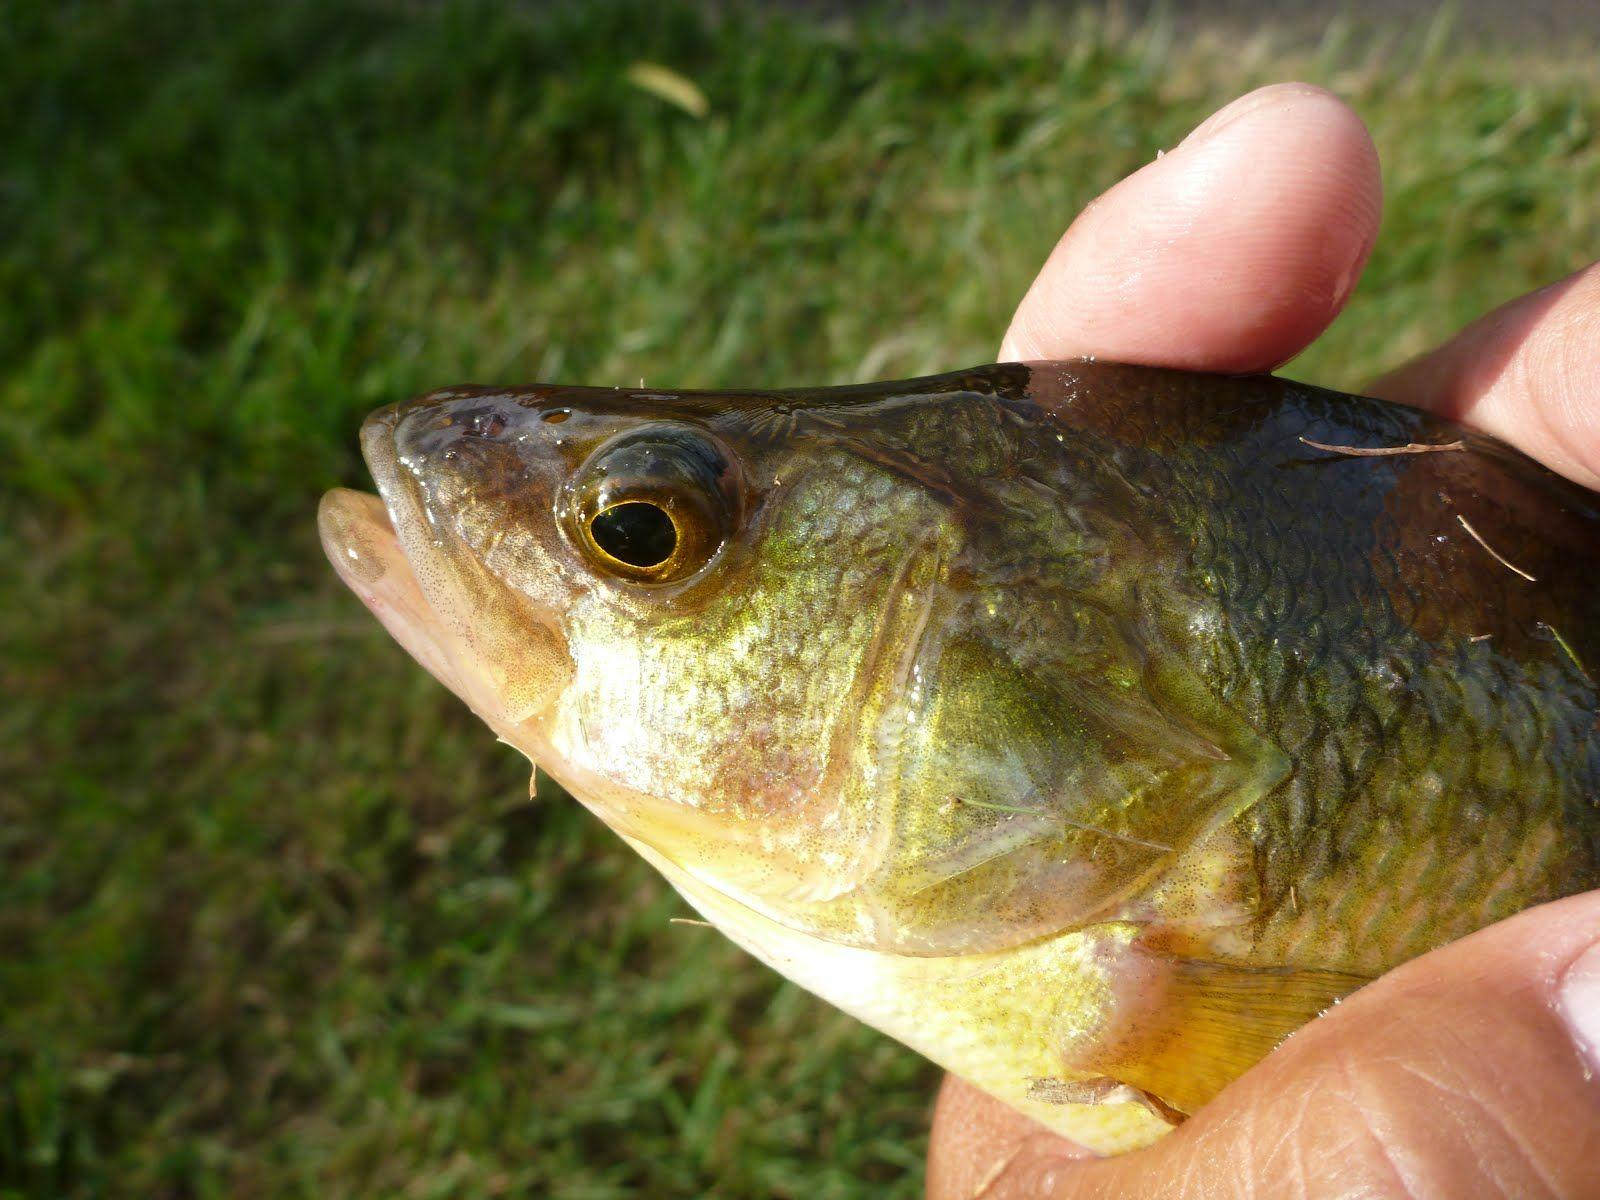Perch: (278, 361, 1600, 1123)
